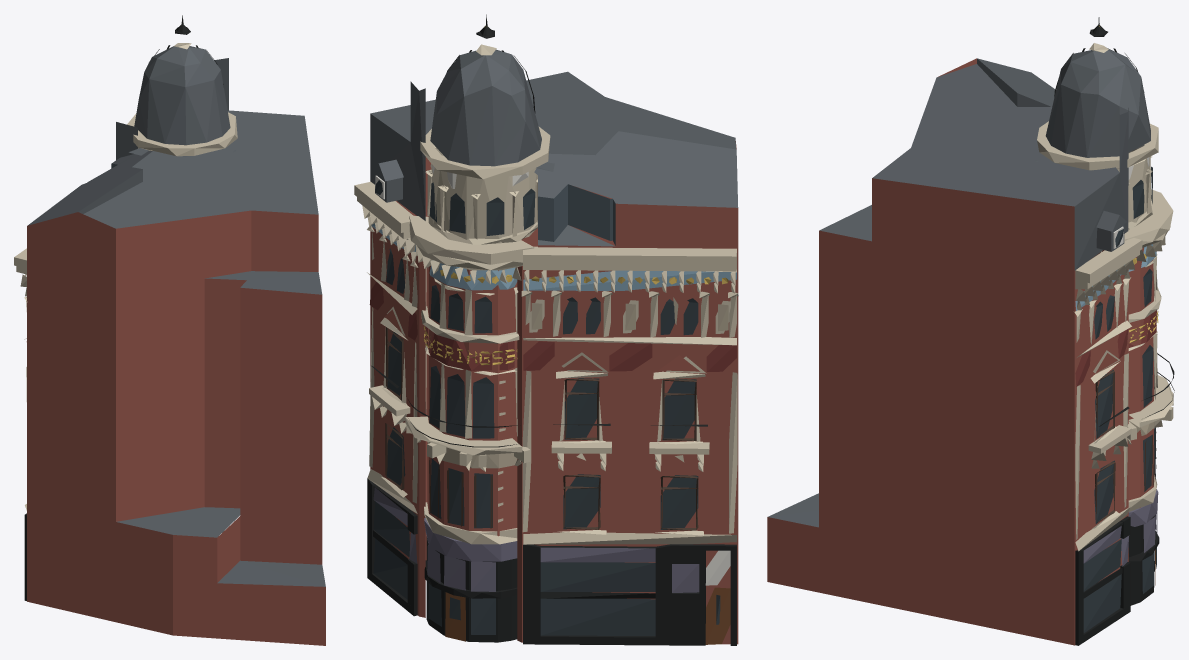
The model's file is koningsplein-1.lod1.glb.
The picture shows the model from 3 angles, left to right: view 1: azimuth 30°, elevation 25°; view 2: azimuth 150°, elevation 25°; view 3: azimuth 270°, elevation 25°; orthographic projection. The views are drawn at different scales.
Parts seen in each view (by area): view 1: koningsplein-1; view 2: koningsplein-1; view 3: koningsplein-1.
Part boxes in pixels (bbox=[...]): koningsplein-1: bbox=[14, 15, 325, 645]; koningsplein-1: bbox=[354, 14, 738, 645]; koningsplein-1: bbox=[767, 17, 1174, 645].
Size of the model in its own units: 16.6 by 26.63 by 17.18.
